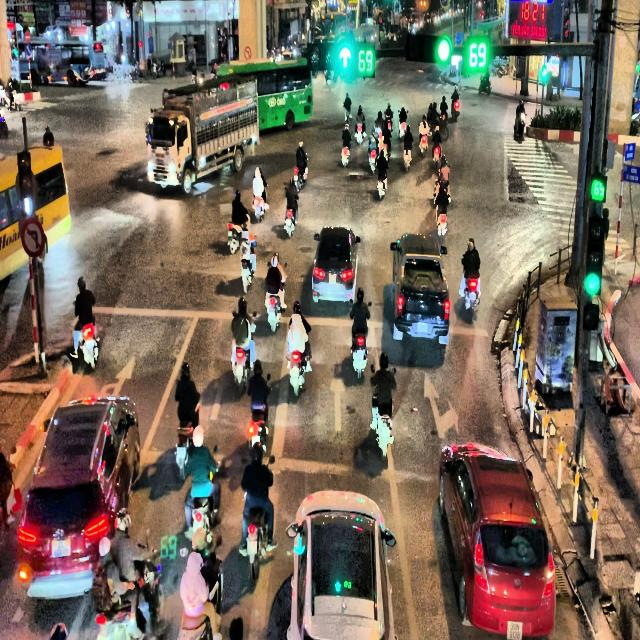lisence_plate: (50, 536, 72, 558), (506, 619, 523, 639), (326, 270, 338, 288), (416, 322, 430, 333)
